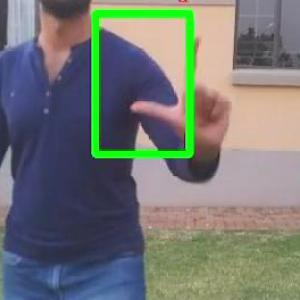land_hand: (128, 31, 238, 153)
